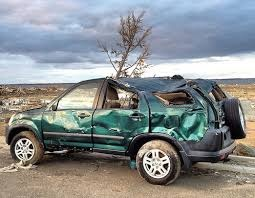Broken-glass: (102, 85, 137, 110)
Dent: (147, 114, 206, 140)
Smashed: (89, 76, 223, 137)
